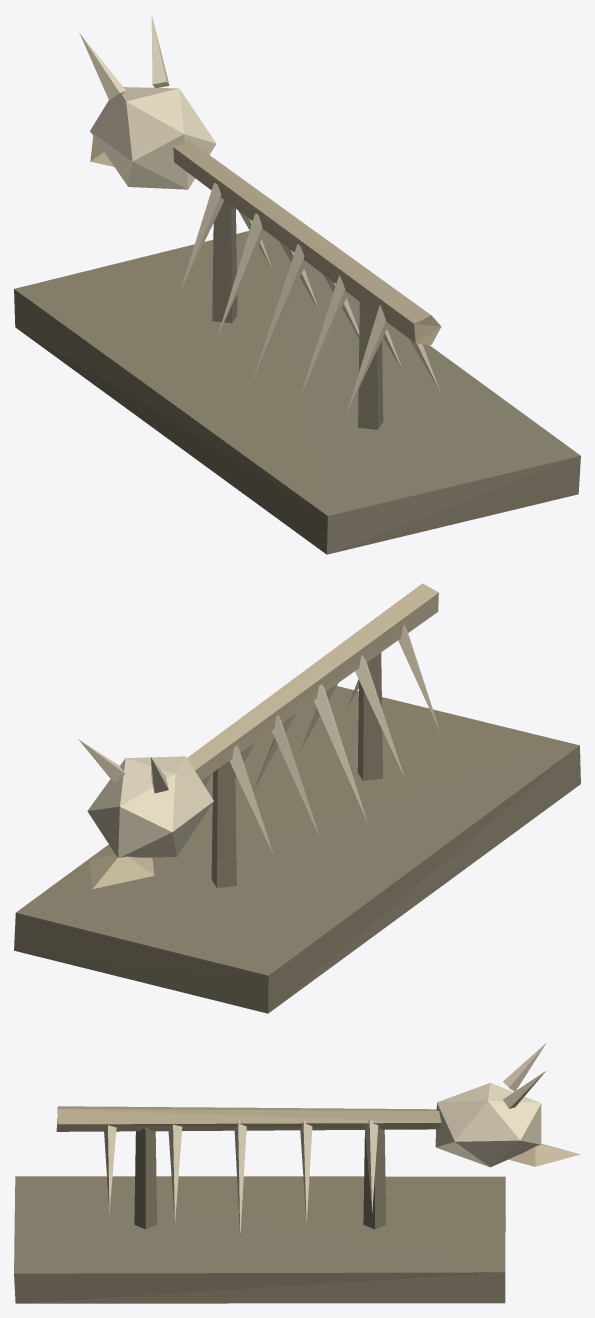
File: world_landmark_fossil_display.obj
3 views of the same model, one above another, from view 1: azimuth 30°, elevation 25°; view 2: azimuth 150°, elevation 25°; view 3: azimuth 270°, elevation 25° (orthographic). The views are drawn at different scales.
Parts seen in each view (by area): view 1: world_landmark_fossil_display; view 2: world_landmark_fossil_display; view 3: world_landmark_fossil_display.
Boxes of the visible parts, left/top/right/bottom form: world_landmark_fossil_display: left=14, top=15, right=580, bottom=554; world_landmark_fossil_display: left=14, top=583, right=580, bottom=1013; world_landmark_fossil_display: left=14, top=1043, right=580, bottom=1303.
Size of the model in its own units: 7.05 by 6.73 by 17.33.
